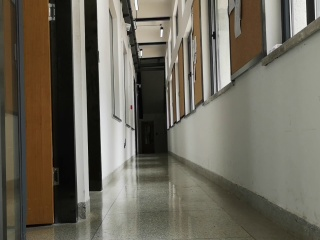room: (2, 2, 81, 230)
